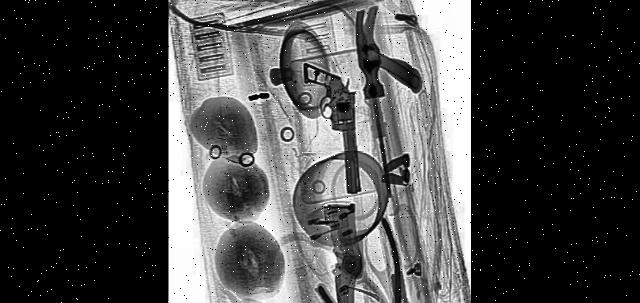Gun: (302, 44, 362, 210)
Pliers: (316, 172, 432, 303)
